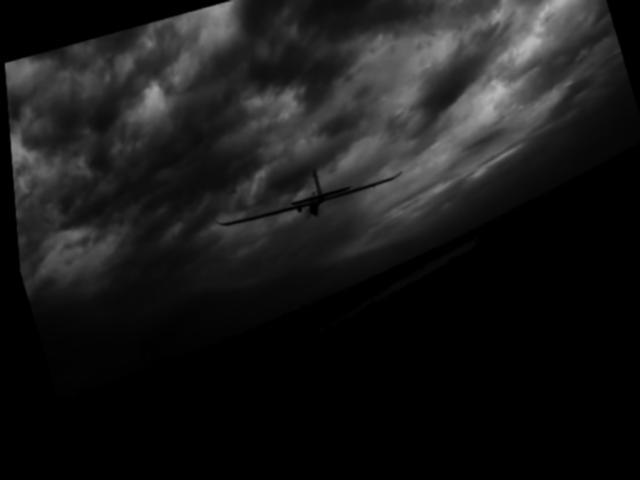hedef: (203, 156, 408, 262)
